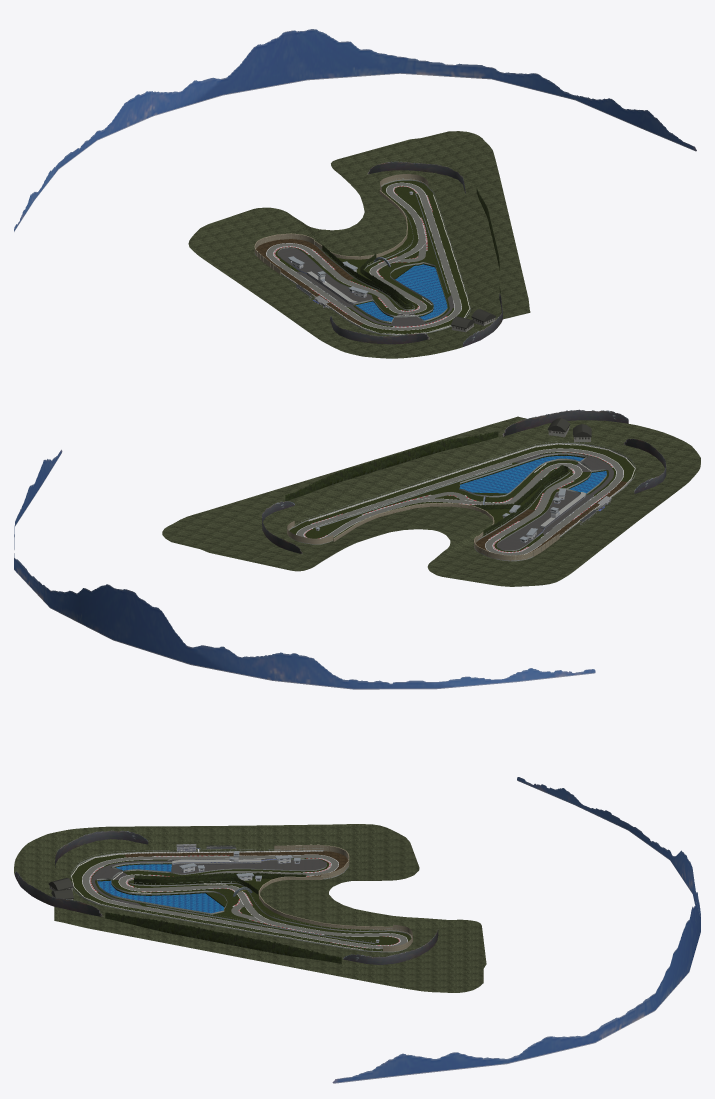
File: low_poly_tsukuba_circuit.glb
3 views of the same model, one above another, from view 1: azimuth 30°, elevation 25°; view 2: azimuth 150°, elevation 25°; view 3: azimuth 270°, elevation 25° (orthographic). The views are drawn at different scales.
Parts seen in each view (by area): view 1: g.007_56, Mountain_49, g_39, inner_46, Plane.001_66, g.002_44, bounds.003_47, bounds_40, g.012_62, r_38, Mountain.002_55, Mountain.001_53 (+4 smaller); view 2: g.007_56, Mountain_49, g_39, inner_46, g.009_59, Plane.001_66, g.002_44, bounds_40, bounds.003_47, g.008_58, Mountain.002_55, g.006_54 (+7 smaller); view 3: g.007_56, Mountain_49, g_39, inner_46, g.009_59, bounds_40, bounds.003_47, g.002_44, Plane.001_66, Mountain.002_55, g.006_54, r_38 (+6 smaller).
Boxes of the visible parts, bbox=[...] form: g.007_56: bbox=[188, 131, 530, 358]; Mountain_49: bbox=[14, 29, 696, 231]; g_39: bbox=[275, 180, 470, 334]; inner_46: bbox=[266, 183, 461, 330]; Plane.001_66: bbox=[279, 206, 459, 322]; g.002_44: bbox=[356, 264, 447, 321]; bounds.003_47: bbox=[254, 174, 428, 274]; bounds_40: bbox=[254, 179, 470, 335]; g.012_62: bbox=[256, 239, 363, 325]; r_38: bbox=[266, 182, 461, 330]; Mountain.002_55: bbox=[322, 245, 412, 308]; Mountain.001_53: bbox=[330, 316, 432, 344]; g.007_56: bbox=[162, 416, 700, 586]; Mountain_49: bbox=[14, 449, 595, 689]; g_39: bbox=[289, 444, 635, 551]; inner_46: bbox=[296, 448, 623, 555]; g.009_59: bbox=[285, 431, 498, 501]; Plane.001_66: bbox=[335, 457, 618, 543]; g.002_44: bbox=[459, 456, 606, 493]; bounds_40: bbox=[289, 443, 635, 561]; bounds.003_47: bbox=[287, 503, 559, 561]; g.008_58: bbox=[502, 409, 628, 436]; Mountain.002_55: bbox=[475, 465, 568, 535]; g.006_54: bbox=[497, 490, 580, 550]; g.007_56: bbox=[14, 824, 486, 992]; Mountain_49: bbox=[332, 777, 700, 1083]; g_39: bbox=[70, 854, 411, 951]; inner_46: bbox=[82, 855, 407, 948]; g.009_59: bbox=[105, 912, 341, 963]; bounds_40: bbox=[70, 850, 411, 952]; bounds.003_47: bbox=[258, 844, 412, 951]; g.002_44: bbox=[97, 864, 224, 913]; Plane.001_66: bbox=[127, 855, 351, 942]; Mountain.002_55: bbox=[134, 872, 306, 894]; g.006_54: bbox=[171, 859, 326, 874]; r_38: bbox=[82, 854, 407, 948].
Size of the model in its own units: 35.45 by 3.39 by 33.87.
21 materials, 21 textured.
